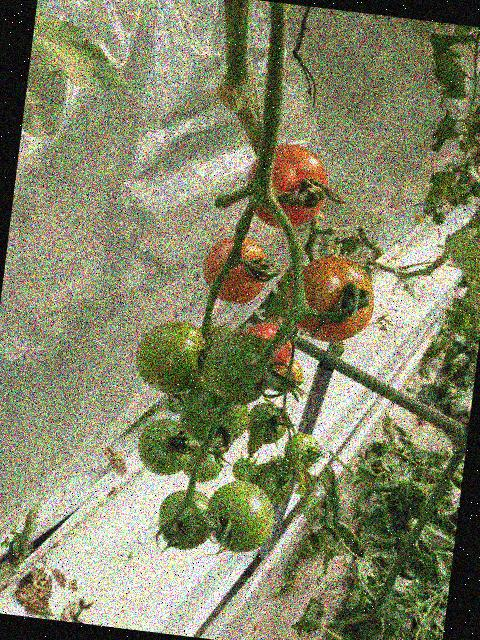l_fully_ripened: (241, 139, 331, 233), (242, 320, 294, 372)
l_green: (200, 327, 280, 410), (132, 315, 211, 398), (202, 476, 279, 556), (176, 376, 254, 453), (155, 485, 216, 553), (134, 415, 197, 479), (181, 439, 226, 485), (245, 400, 289, 447), (281, 430, 322, 472), (447, 225, 480, 275), (254, 466, 293, 506), (264, 453, 295, 482), (230, 455, 260, 484), (468, 274, 480, 313)
l_half_ripened: (282, 251, 380, 348), (199, 231, 274, 308), (268, 355, 305, 394)
